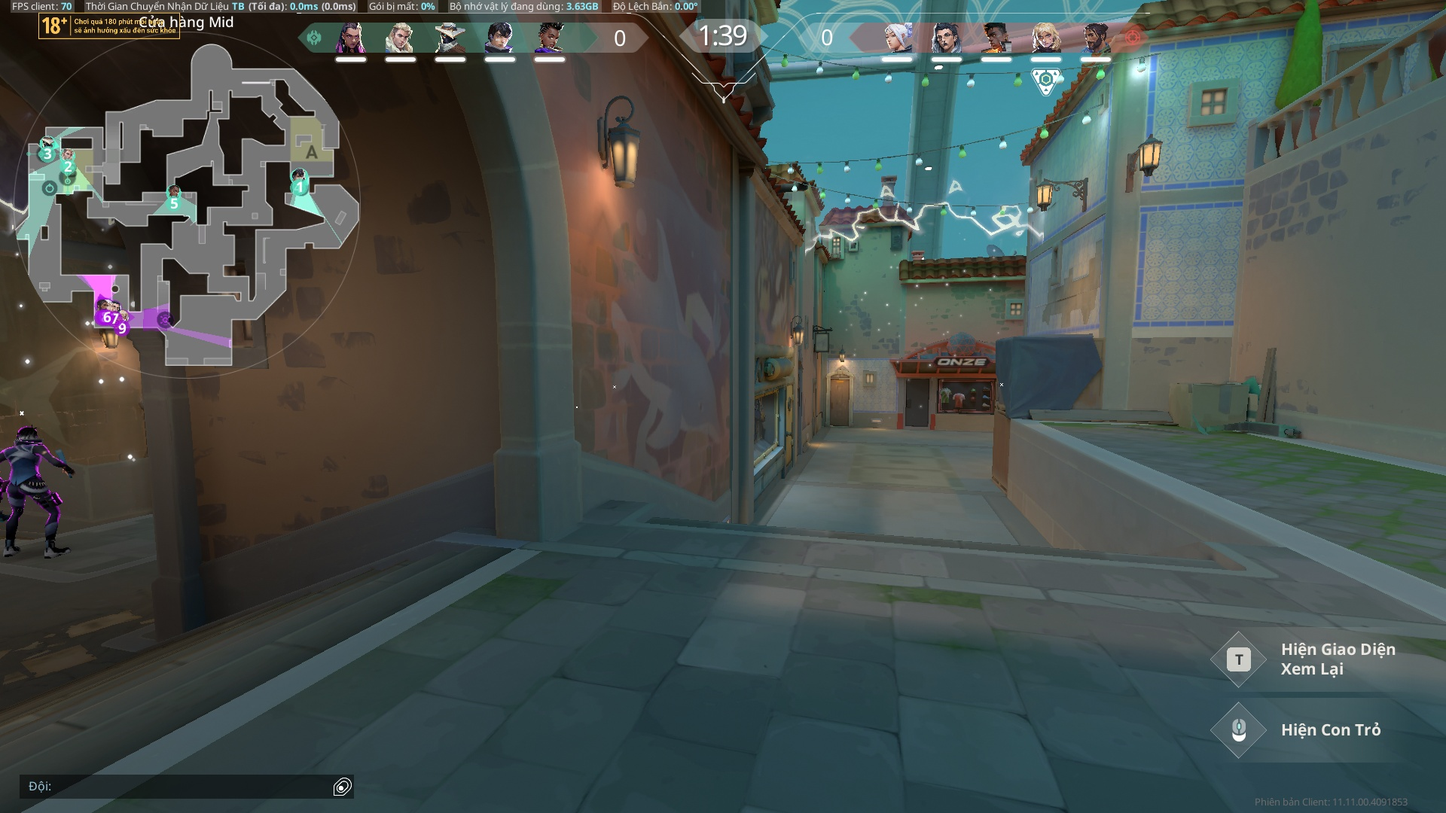body: (6, 444, 46, 481)
head: (19, 425, 40, 444)
